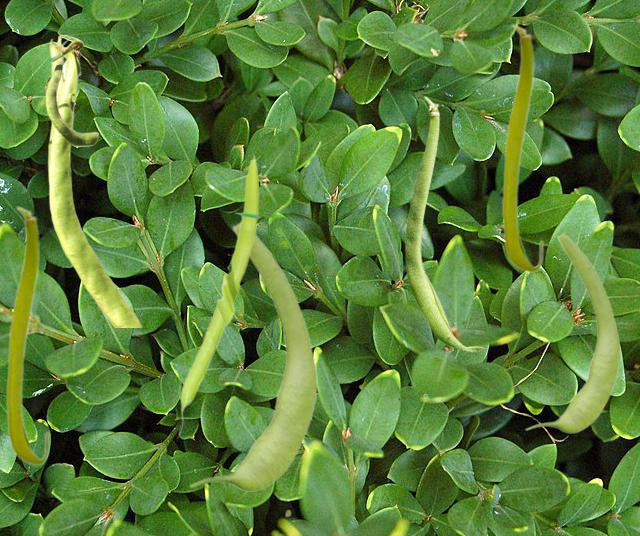french_bean: (188, 219, 317, 490), (44, 34, 141, 326), (176, 152, 261, 439), (405, 96, 484, 351), (524, 231, 620, 432), (5, 205, 49, 465), (501, 23, 543, 272)
